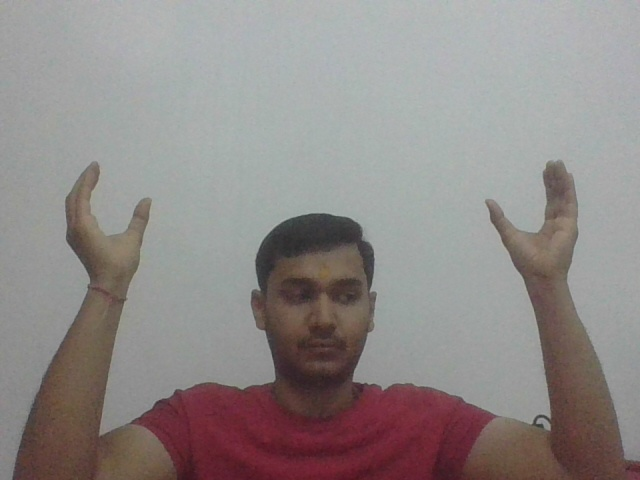U: (482, 158, 588, 279), (62, 154, 157, 280)
